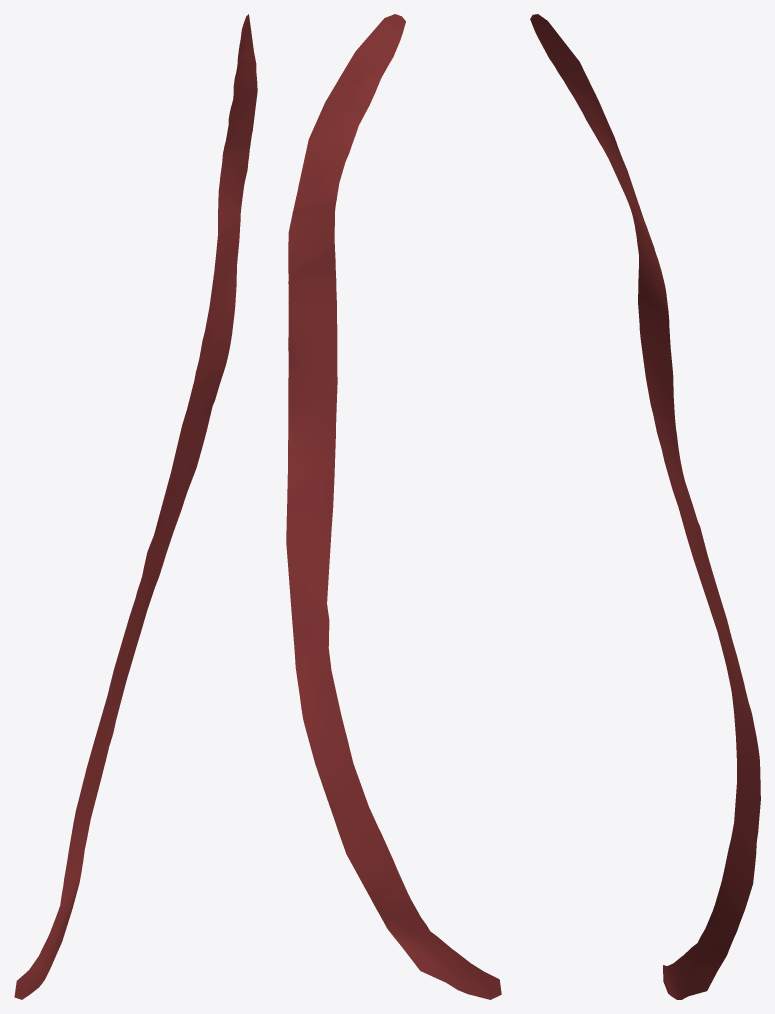
File: serratus-anterior-muscle-or.glb
The picture shows the model from 3 angles, left to right: view 1: azimuth 30°, elevation 25°; view 2: azimuth 150°, elevation 25°; view 3: azimuth 270°, elevation 25°; orthographic projection. The views are drawn at different scales.
Visible parts, largest first — view 1: Serratus anterior muscle.or; view 2: Serratus anterior muscle.or; view 3: Serratus anterior muscle.or.
Boxes of the visible parts, bbox=[...] form: Serratus anterior muscle.or: bbox=[14, 14, 257, 999]; Serratus anterior muscle.or: bbox=[286, 14, 501, 999]; Serratus anterior muscle.or: bbox=[530, 14, 760, 999].
Bounding box in the file's own units: 0.0331 × 0.1346 × 0.0264.
